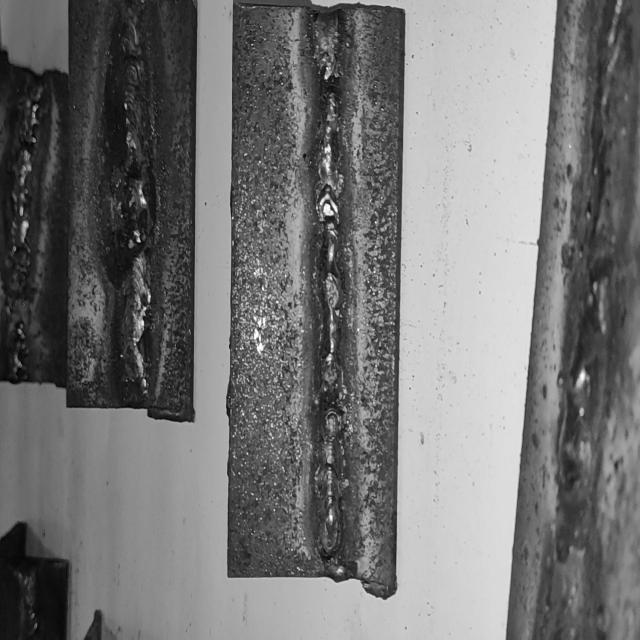Bad Weld: (116, 13, 149, 384), (8, 80, 47, 370)
Defect: (102, 120, 164, 274), (5, 278, 38, 342)
Good Weld: (312, 18, 344, 558)
